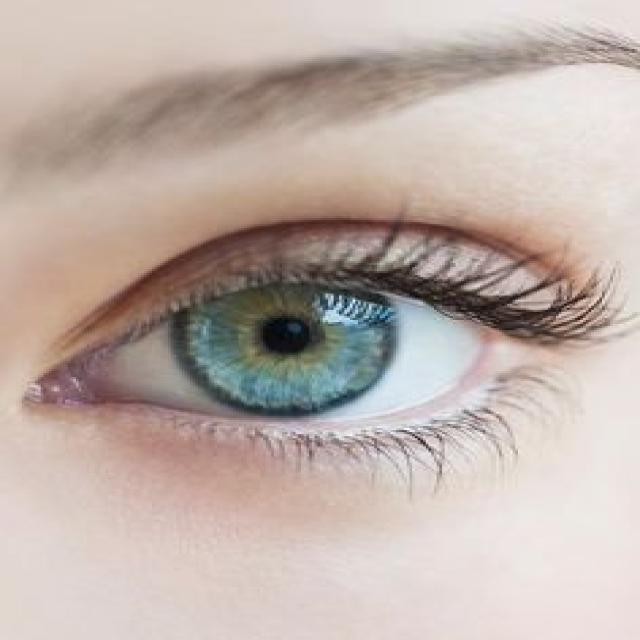Normal: (17, 208, 638, 496)
